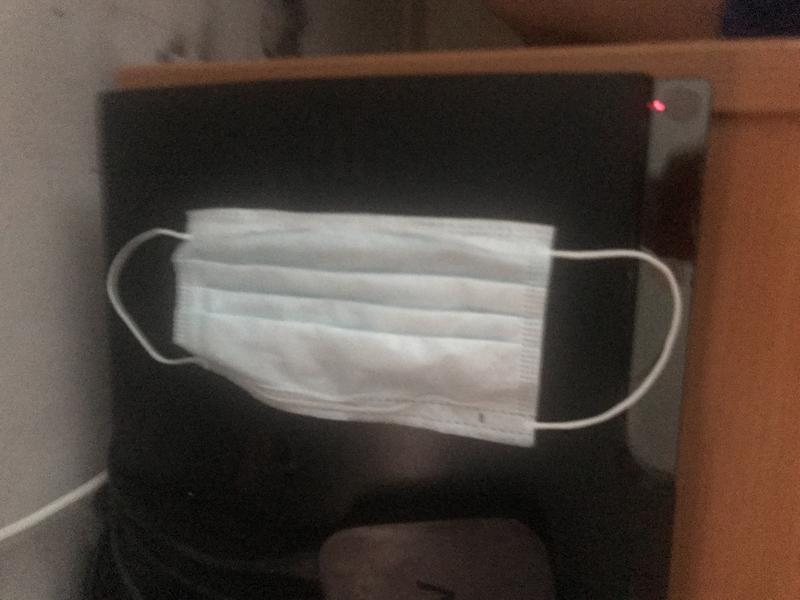medical_mask: (106, 207, 684, 453)
